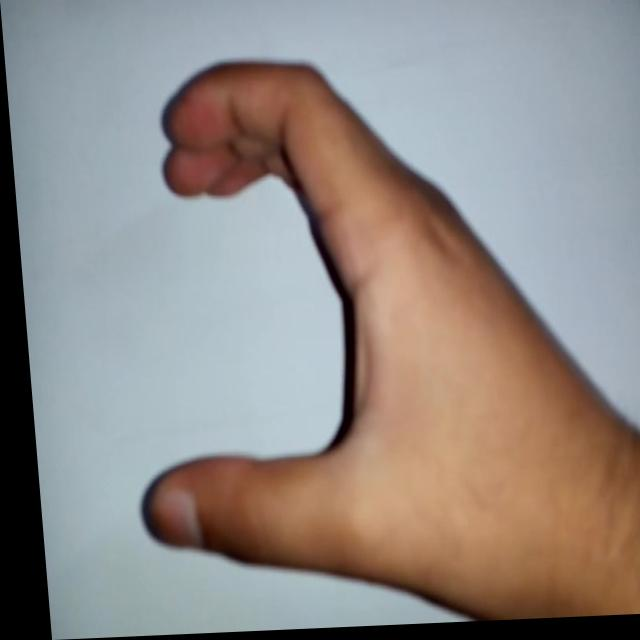C: (79, 51, 550, 605)
